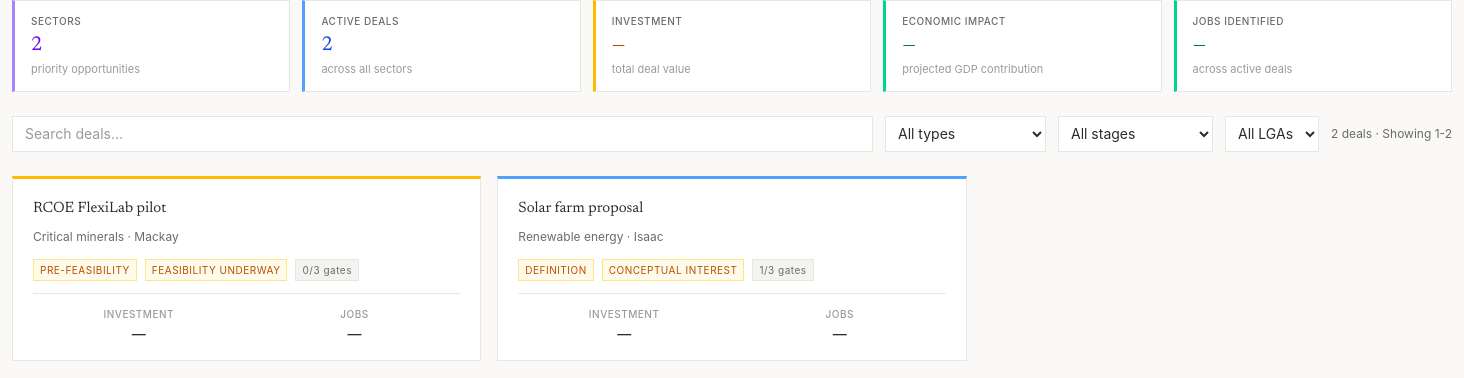
DealsSearch › filters by opportunity type name
This screenshot has width=1464, height=378.
Type "critical" into the search field with test id "deals-search-input" at point(442, 134), box [12,116,873,152]
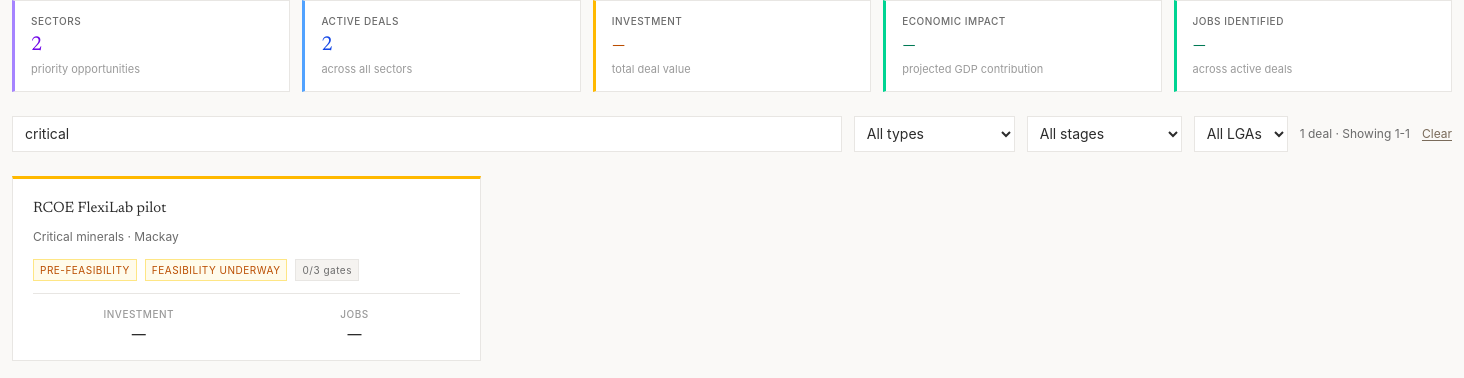
Expected: the heading "RCOE FlexiLab pilot" is shown, [33,201,166,216]
Now the message with test id "deals-count" shows "1 deal", box [1300,126,1410,142]
Now the link "Solar farm proposal" is gone
